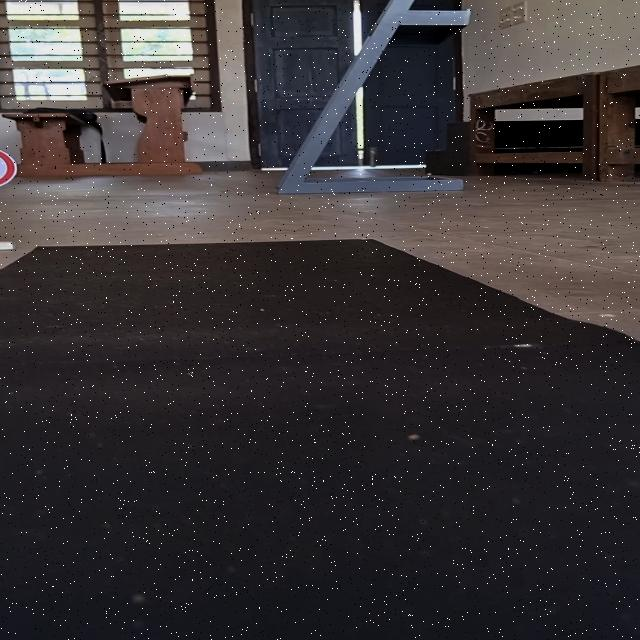Speed60: (0, 143, 19, 190)
